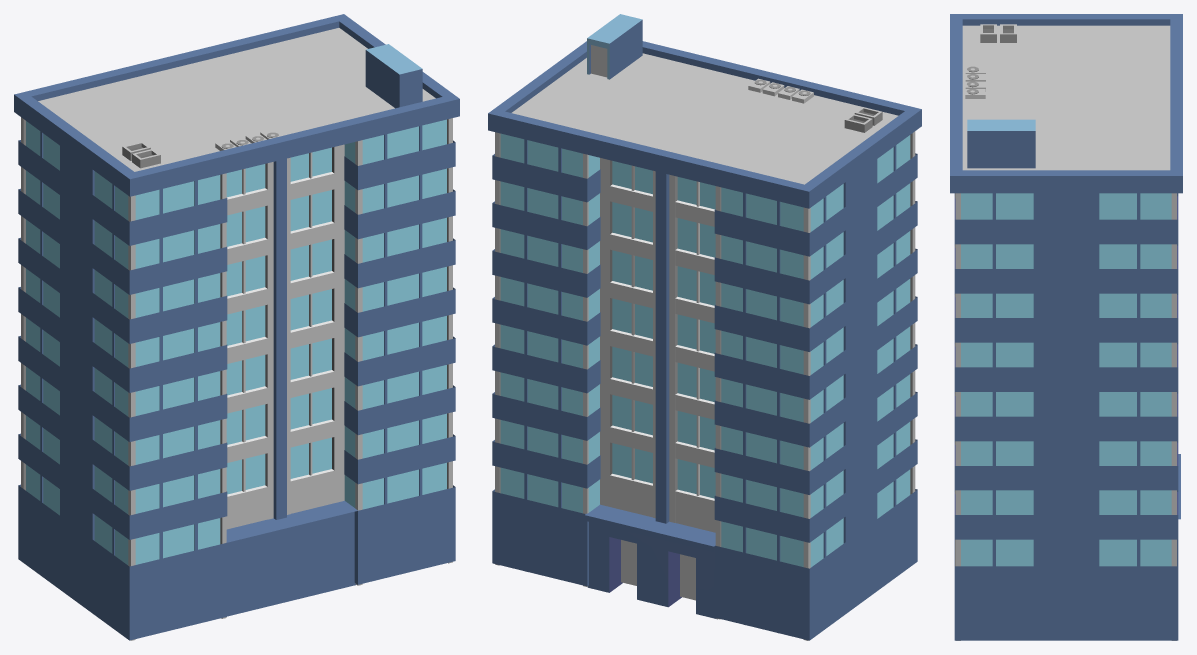
File: building_2_2_2_4.glb
3 renders of one model, left to right at view 1: azimuth 30°, elevation 25°; view 2: azimuth 150°, elevation 25°; view 3: azimuth 270°, elevation 25°, orthographic. The views are drawn at different scales.
Parts seen in each view (by area): view 1: building_2_2_2_4; view 2: building_2_2_2_4; view 3: building_2_2_2_4.
Part boxes in pixels (x1,y1,x2,y2): building_2_2_2_4: [14, 14, 459, 640]; building_2_2_2_4: [488, 14, 921, 640]; building_2_2_2_4: [950, 14, 1182, 640].
Bounding box in the file's own units: 30.48 × 43.87 × 18.54.
Materials: 1 (1 with a texture image).
